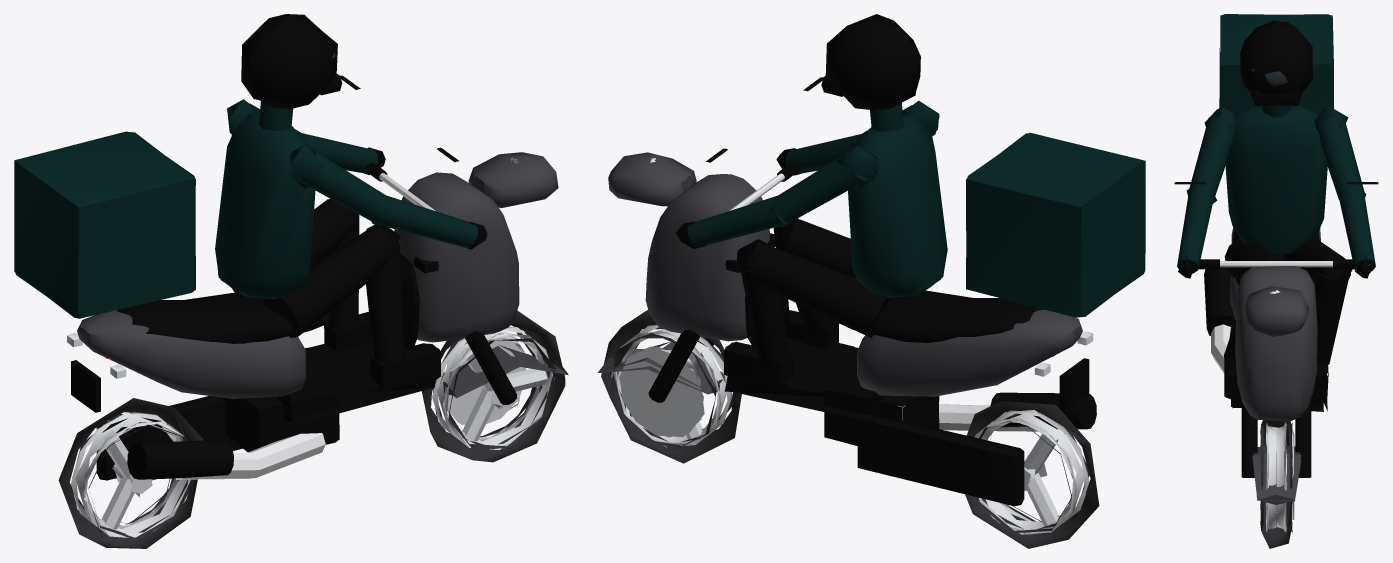
Rendered from m_livreur_far.glb.
The picture shows the model from 3 angles, left to right: view 1: azimuth 30°, elevation 25°; view 2: azimuth 150°, elevation 25°; view 3: azimuth 270°, elevation 25°; orthographic projection. The views are drawn at different scales.
Visible parts, largest first — view 1: TopBox, Torso, Shield, Rear, WheelF, WheelR, Helmet, Seat, Thigh.001, Floor, Engine, Muffler (+17 smaller); view 2: TopBox, Torso, Shield, WheelF, Rear, CVT, WheelR, Helmet, Seat, Thigh, Floor, HeadCover (+17 smaller); view 3: Torso, Shield, TopBox, Helmet, WheelF, HeadCover, UpperArm.001, UpperArm, Shin, Forearm.001, Forearm, Muffler (+18 smaller).
Boxes of the visible parts, bbox=[...] form: TopBox: bbox=[14, 131, 195, 318]; Torso: bbox=[215, 113, 315, 298]; Shield: bbox=[394, 172, 519, 342]; Rear: bbox=[77, 310, 306, 398]; WheelF: bbox=[421, 310, 565, 462]; WheelR: bbox=[58, 398, 203, 548]; Helmet: bbox=[241, 14, 337, 108]; Seat: bbox=[117, 292, 330, 343]; Thigh.001: bbox=[264, 228, 393, 337]; Floor: bbox=[276, 341, 435, 426]; Engine: bbox=[223, 394, 339, 452]; Muffler: bbox=[127, 440, 233, 479]; TopBox: bbox=[966, 132, 1145, 317]; Torso: bbox=[848, 114, 947, 297]; Shield: bbox=[645, 174, 769, 341]; WheelF: bbox=[601, 310, 741, 463]; Rear: bbox=[857, 309, 1082, 396]; CVT: bbox=[857, 413, 1024, 506]; WheelR: bbox=[965, 401, 1099, 548]; Helmet: bbox=[825, 14, 920, 109]; Seat: bbox=[835, 290, 1044, 342]; Thigh: bbox=[750, 244, 889, 337]; Floor: bbox=[724, 337, 896, 422]; HeadCover: bbox=[608, 152, 696, 206]; Torso: bbox=[1225, 105, 1327, 253]; Shield: bbox=[1235, 266, 1317, 421]; TopBox: bbox=[1219, 14, 1333, 114]; Helmet: bbox=[1240, 21, 1312, 94]; WheelF: bbox=[1260, 420, 1294, 548]; HeadCover: bbox=[1244, 286, 1309, 336]; UpperArm.001: bbox=[1189, 117, 1235, 197]; UpperArm: bbox=[1319, 117, 1364, 200]; Shin: bbox=[1315, 272, 1349, 365]; Forearm.001: bbox=[1177, 188, 1213, 273]; Forearm: bbox=[1339, 188, 1375, 272]; Muffler: bbox=[1204, 267, 1235, 335].
Bounding box in the file's own units: 1.95 × 1.77 × 0.7612.
